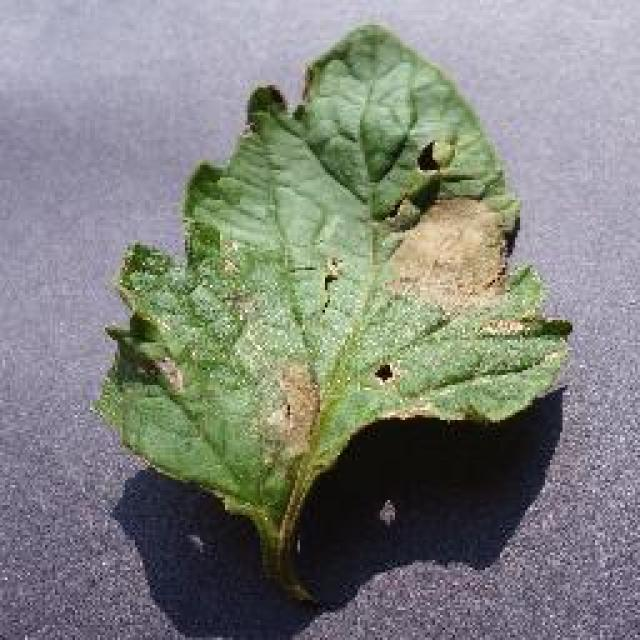Tomato Late Blight: (153, 200, 535, 542)
